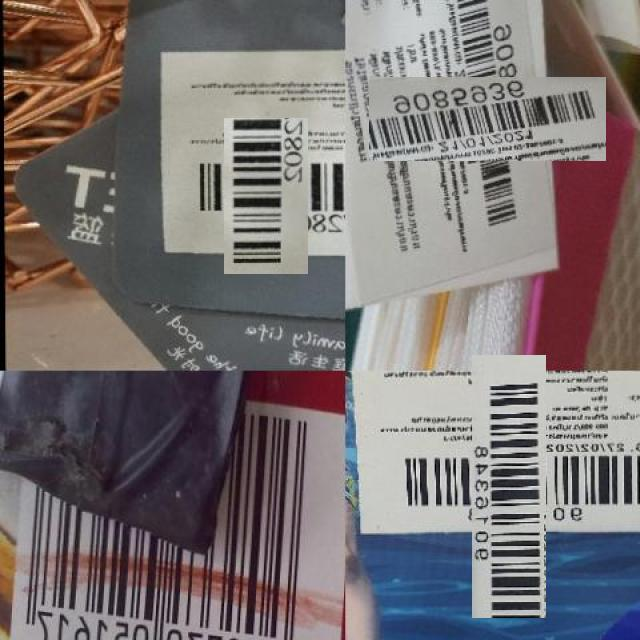Barcode: (4, 372, 345, 640), (424, 402, 593, 571), (407, 38, 568, 199), (206, 135, 327, 256)
